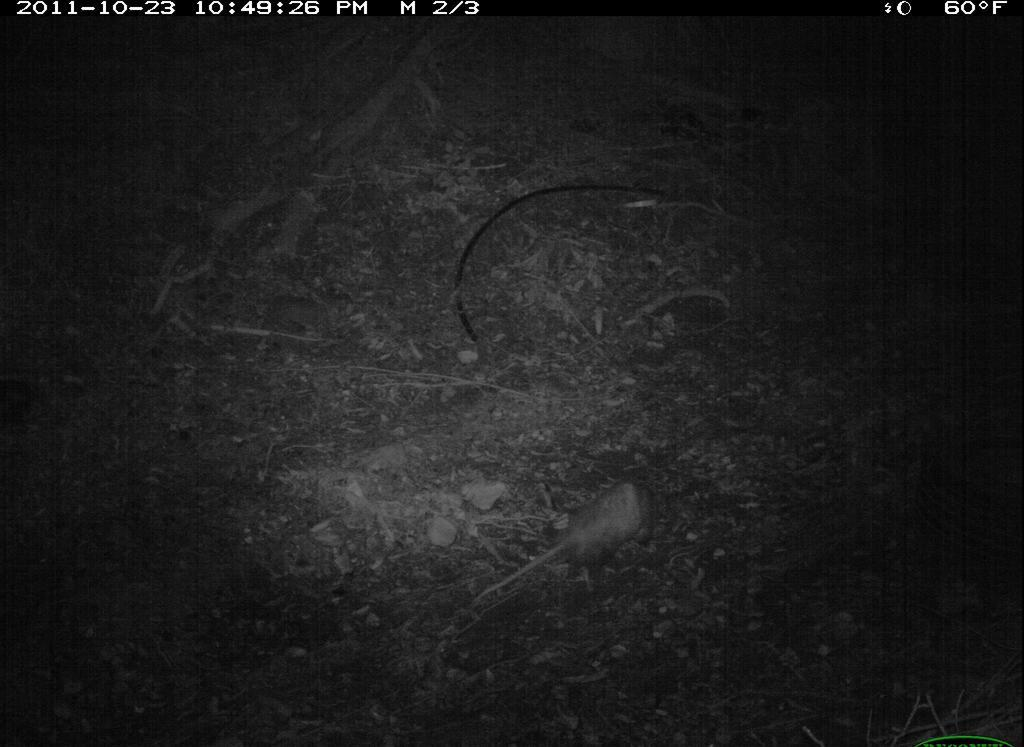opossum: (475, 469, 666, 614)
